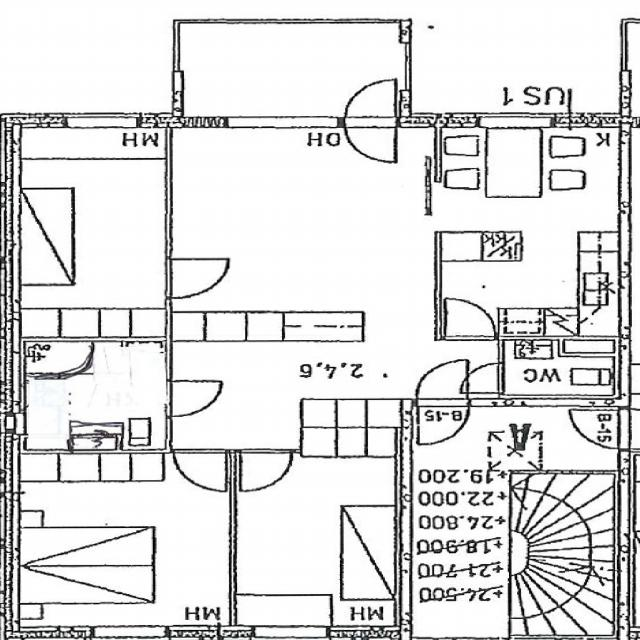door: (345, 80, 395, 128), (345, 116, 395, 164), (418, 361, 468, 407), (418, 398, 468, 444), (173, 449, 226, 492), (166, 259, 224, 297), (240, 449, 291, 491), (166, 381, 219, 416), (458, 363, 504, 393)
